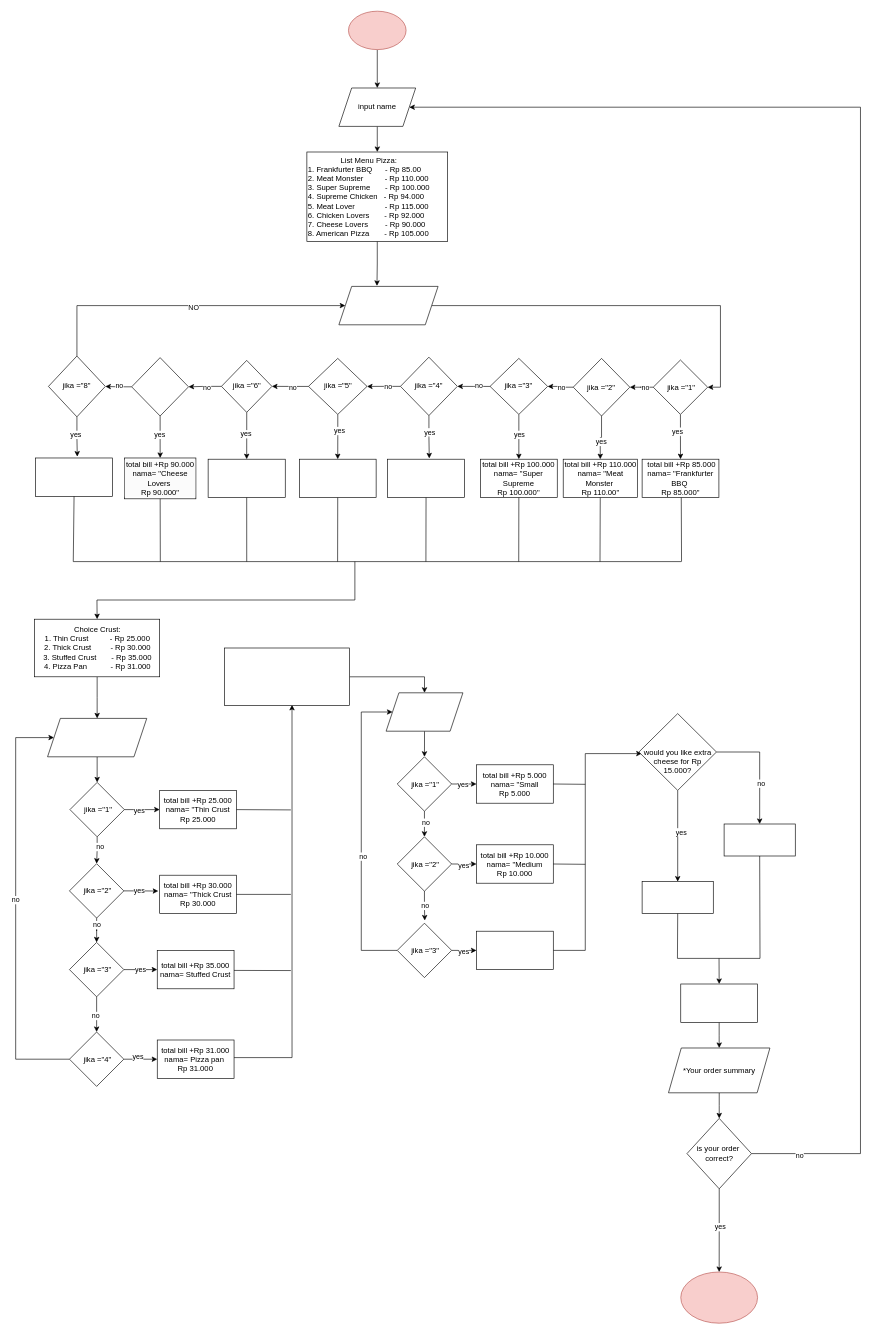
Image size: 877x1334. Some labels were removed from this diagram. The shapes that lost their labels are listed below. From the top down, each one's centre as x and y in pixels, then its label:
point (377, 30): welcome to aens pizza
point (388, 305): Choose your pizza by number
point (160, 386): jika ="7"
point (73, 476): total bill +Rp 105.000 nama= "American Pizza Rp 105.000"
point (246, 478): total bill +Rp 92.000 nama= "Chicken Lovers Rp 92.000"
point (337, 478): total bill +Rp 115.000 nama= "Meat Lover Rp 115.000"
point (425, 478): total bill +Rp 94.000 nama= "Supreme Chicken Rp 94.000"
point (287, 676): Choice Size: 1. Small - Rp 5.000 2. Medium - Rp 10.000 3. Large - Rp 15.000
point (424, 711): choice your size by number:
point (97, 737): Choose your crust by number
point (759, 839): total bill +Rp 0 name= yes Rp 0
point (677, 897): total bill +Rp 15.000 name= yes Rp 15.000
point (514, 950): total bill +Rp 15.000 nama= "Large Rp 15.000
point (719, 1002): Calculate order quantity
point (719, 1297): Thank you for your order!<3
